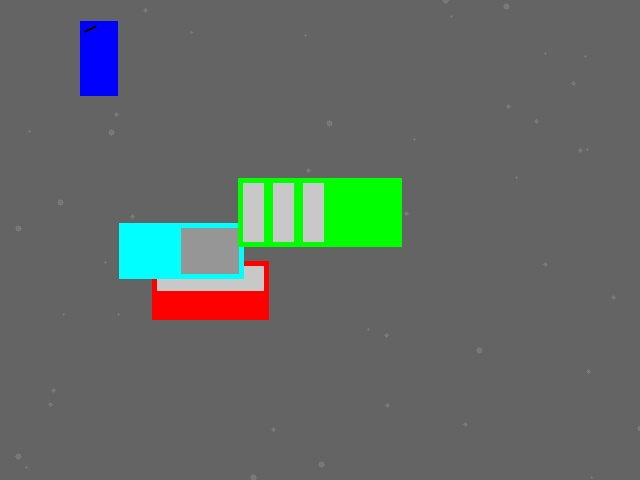bus: (238, 178, 401, 246)
car: (152, 261, 268, 319)
motorcycle: (80, 21, 117, 95)
truck: (119, 223, 243, 278)
